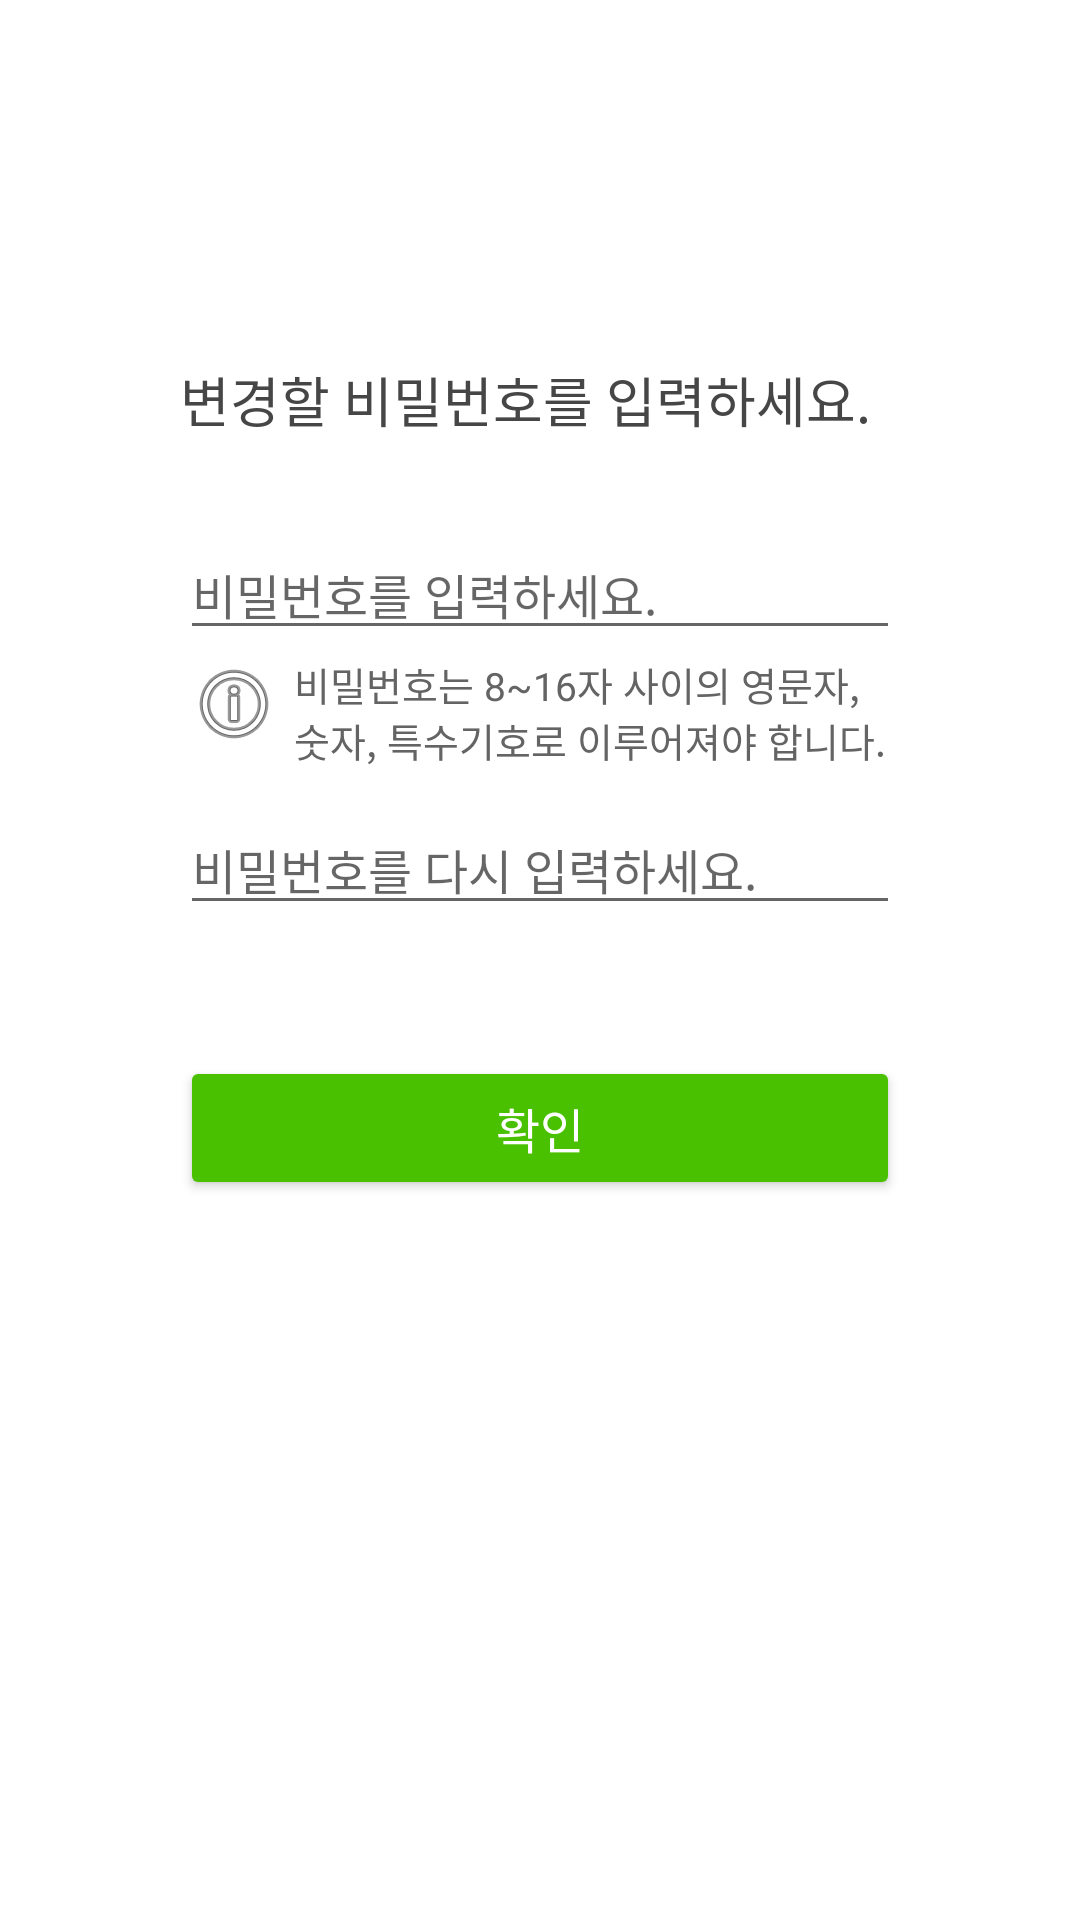

Icon bounding boxes for this 1080px x 1920px phone screenshot, format box(x1, y1, x2, y2):
info details: box(199, 669, 269, 739)
